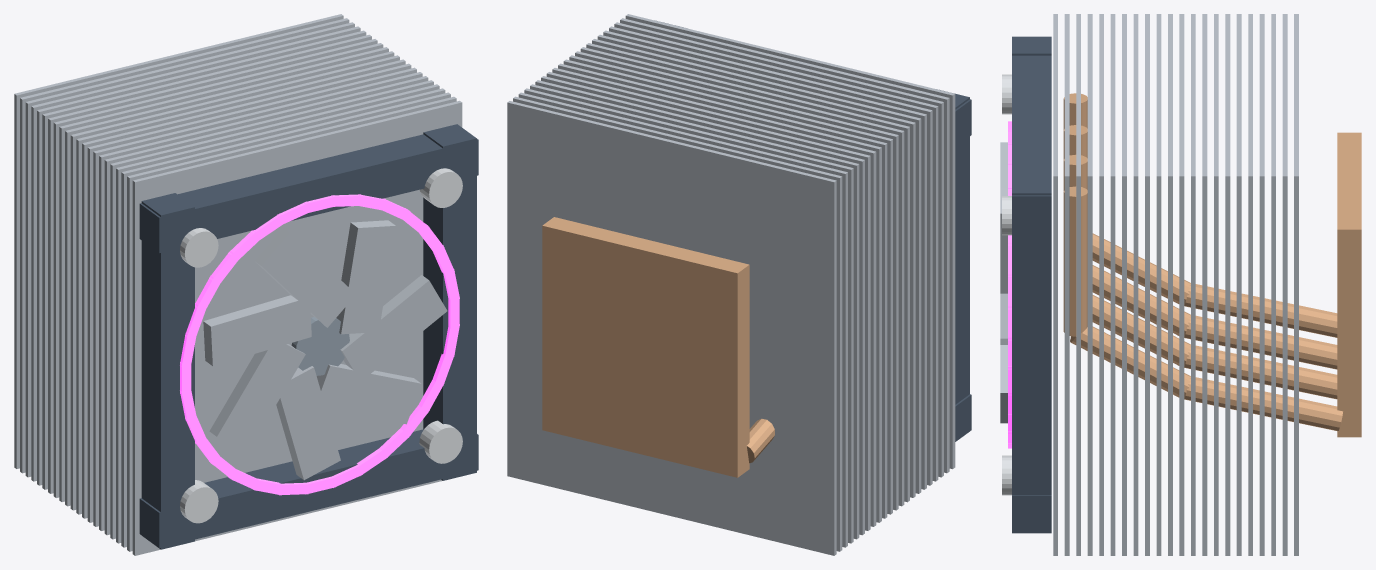
Rendered from cooler-air.glb.
The picture shows the model from 3 angles, left to right: view 1: azimuth 30°, elevation 25°; view 2: azimuth 150°, elevation 25°; view 3: azimuth 270°, elevation 25°; orthographic projection.
Parts seen in each view (by area): view 1: heatsink_fin_35, fan_rail_39, fan_rail_36, fan_rail_38, fan_rail_37, fan_blade_79, fan_blade_80, fan_blade_77, heatsink_fin_30, heatsink_fin_16, heatsink_fin_24, heatsink_fin_21 (+26 smaller); view 2: heatsink_fin_14, heatspreader_base_1, heatsink_fin_35, heatsink_fin_26, heatsink_fin_32, heatsink_fin_21, heatsink_fin_18, heatsink_fin_15, heatsink_fin_29, heatsink_fin_20, heatsink_fin_16, heatsink_fin_30 (+15 smaller); view 3: fan_rail_37, heatspreader_base_1, fan_rail_39, heatsink_fin_34, heatsink_fin_32, heatsink_fin_30, heatsink_fin_28, heatsink_fin_26, heatsink_fin_24, heatsink_fin_22, heatsink_fin_20, heatsink_fin_19 (+29 smaller).
Boxes of the visible parts, box(x1,y1,x2,y2) form: heatsink_fin_35: box(132, 100, 462, 555); fan_rail_39: box(139, 134, 478, 253); fan_rail_36: box(141, 193, 194, 549); fan_rail_38: box(139, 429, 478, 548); fan_rail_37: box(423, 124, 476, 480); fan_blade_79: box(203, 295, 311, 366); fan_blade_80: box(209, 339, 305, 452); fan_blade_77: box(336, 220, 395, 334); heatsink_fin_30: box(104, 80, 433, 535); heatsink_fin_16: box(25, 22, 354, 477); heatsink_fin_24: box(70, 55, 399, 510); heatsink_fin_21: box(53, 43, 383, 497); heatsink_fin_14: box(507, 101, 836, 555); heatspreader_base_1: box(542, 217, 749, 477); heatsink_fin_35: box(625, 14, 955, 469); heatsink_fin_26: box(575, 51, 904, 506); heatsink_fin_32: box(609, 26, 938, 481); heatsink_fin_21: box(546, 72, 876, 526); heatsink_fin_18: box(530, 84, 859, 539); heatsink_fin_15: box(513, 96, 842, 551); heatsink_fin_29: box(592, 39, 921, 493); heatsink_fin_20: box(541, 76, 870, 530); heatsink_fin_16: box(518, 92, 847, 547); heatsink_fin_30: box(597, 34, 926, 489); fan_rail_37: box(1012, 176, 1051, 533); heatspreader_base_1: box(1337, 132, 1361, 437); fan_rail_39: box(1012, 55, 1051, 232); heatsink_fin_34: box(1064, 14, 1069, 555); heatsink_fin_32: box(1087, 14, 1092, 555); heatsink_fin_30: box(1110, 14, 1115, 555); heatsink_fin_28: box(1133, 14, 1138, 555); heatsink_fin_26: box(1156, 14, 1161, 555); heatsink_fin_24: box(1179, 14, 1184, 555); heatsink_fin_22: box(1202, 14, 1207, 555); heatsink_fin_20: box(1225, 14, 1230, 555); heatsink_fin_19: box(1236, 14, 1241, 555).
Bounding box in the file's own units: 0.87 × 0.95 × 0.819.
